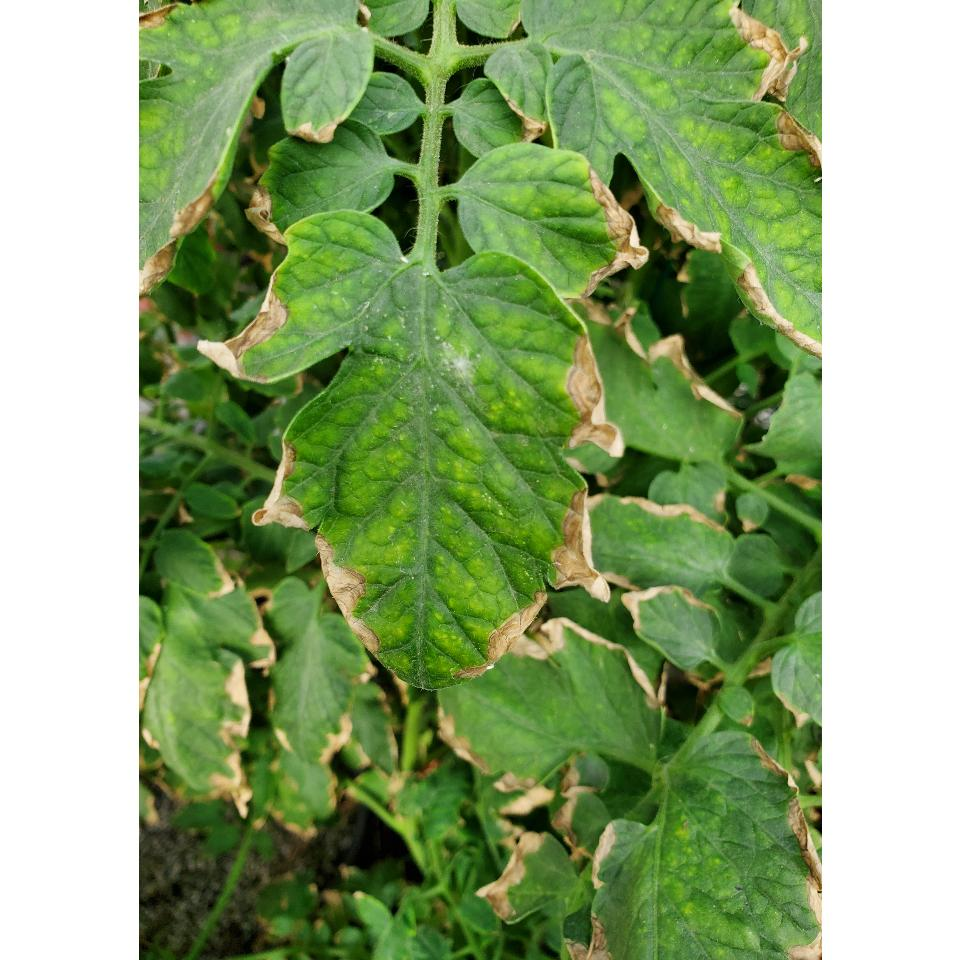tomato_bacterial_blight: (234, 192, 630, 702), (636, 122, 822, 268)
